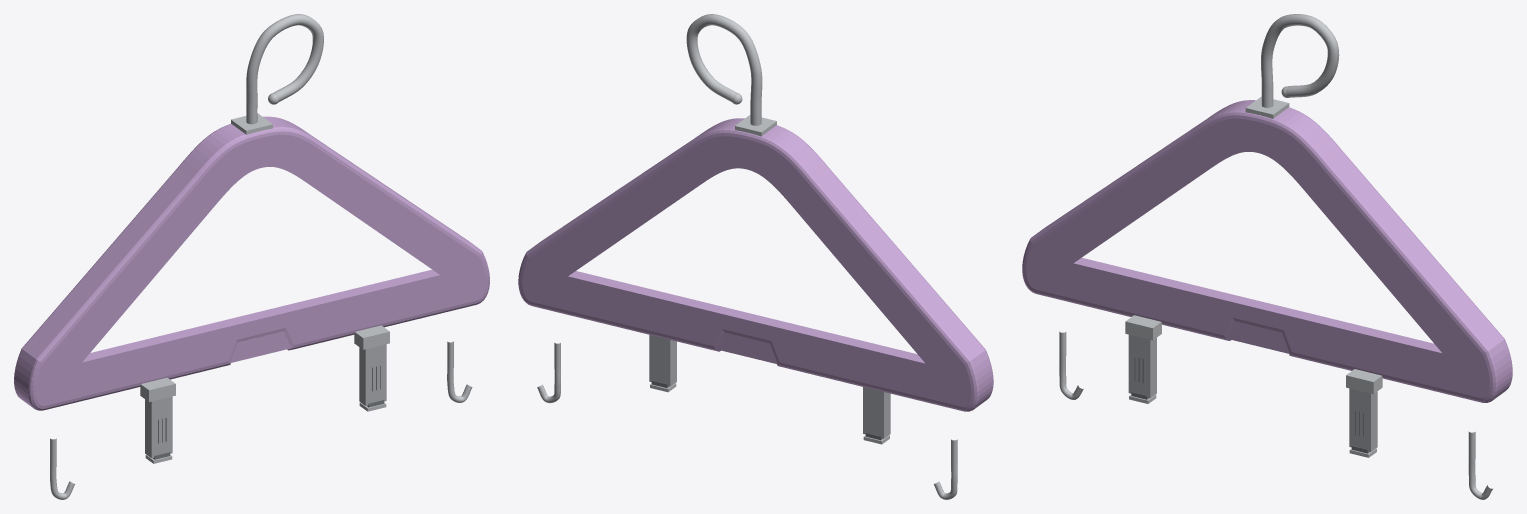
The model's file is outfit-hanger.glb.
3 views of the same model, side by side, from view 1: azimuth 30°, elevation 25°; view 2: azimuth 150°, elevation 25°; view 3: azimuth 330°, elevation 25° (orthographic). The views are drawn at different scales.
Visible parts, largest first — view 1: Hanger frame, Lower crossbar, Swivel hook, Left clip body, Right clip body, Right clip clamp, Left clip clamp, Right accessory hook curved hook, Left accessory hook curved hook; view 2: Hanger frame, Lower crossbar, Swivel hook, Left clip body, Right clip body, Left accessory hook curved hook, Right accessory hook curved hook; view 3: Hanger frame, Lower crossbar, Swivel hook, Left clip body, Right clip body, Left clip clamp, Right clip clamp, Right accessory hook curved hook, Left accessory hook curved hook.
Boxes of the visible parts, <box> form: Hanger frame: <box>14,116,489,410</box>; Lower crossbar: <box>82,269,439,362</box>; Swivel hook: <box>246,14,323,124</box>; Left clip body: <box>145,396,172,458</box>; Right clip body: <box>359,344,386,405</box>; Right clip clamp: <box>354,325,389,349</box>; Left clip clamp: <box>140,377,175,401</box>; Right accessory hook curved hook: <box>447,341,472,402</box>; Left accessory hook curved hook: <box>50,438,74,499</box>; Hanger frame: <box>518,118,993,411</box>; Lower crossbar: <box>568,271,925,364</box>; Swivel hook: <box>686,14,762,125</box>; Left clip body: <box>863,387,890,438</box>; Right clip body: <box>649,335,676,386</box>; Left accessory hook curved hook: <box>933,439,957,499</box>; Right accessory hook curved hook: <box>537,342,560,403</box>; Hanger frame: <box>1022,100,1512,402</box>; Lower crossbar: <box>1074,257,1441,353</box>; Swivel hook: <box>1261,14,1339,107</box>; Left clip body: <box>1128,334,1156,398</box>; Right clip body: <box>1349,388,1377,451</box>; Left clip clamp: <box>1125,315,1161,340</box>; Right clip clamp: <box>1346,369,1382,394</box>; Right accessory hook curved hook: <box>1468,431,1492,499</box>; Left accessory hook curved hook: <box>1059,331,1083,399</box>.
Bounding box in the file's own units: 44.81 × 39.8 × 4.57.
